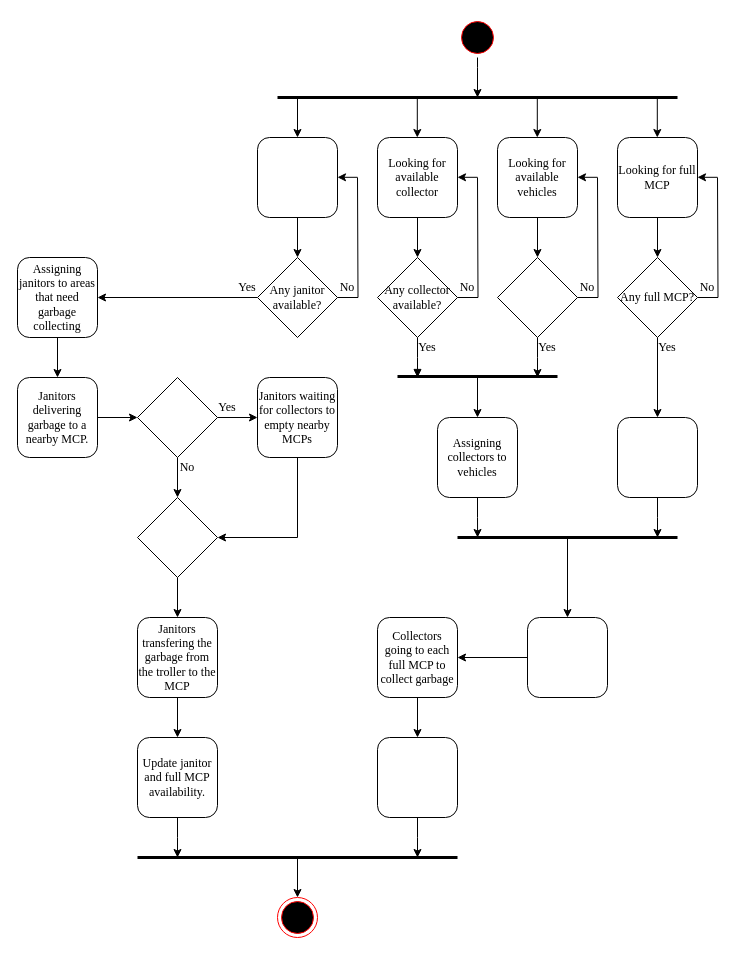
Image size: 743x955. Some labels were removed from this diagram. Each missing label, with the centre of its shape:
Adding full MCPs to a route: point (657, 457)
Any vechicle available?: point (537, 297)
Assigning collectors to a route: point (567, 657)
Looking for available janitor: point (297, 177)
MCP is full?: point (177, 417)
Update vehicle and collector availability.: point (417, 777)
